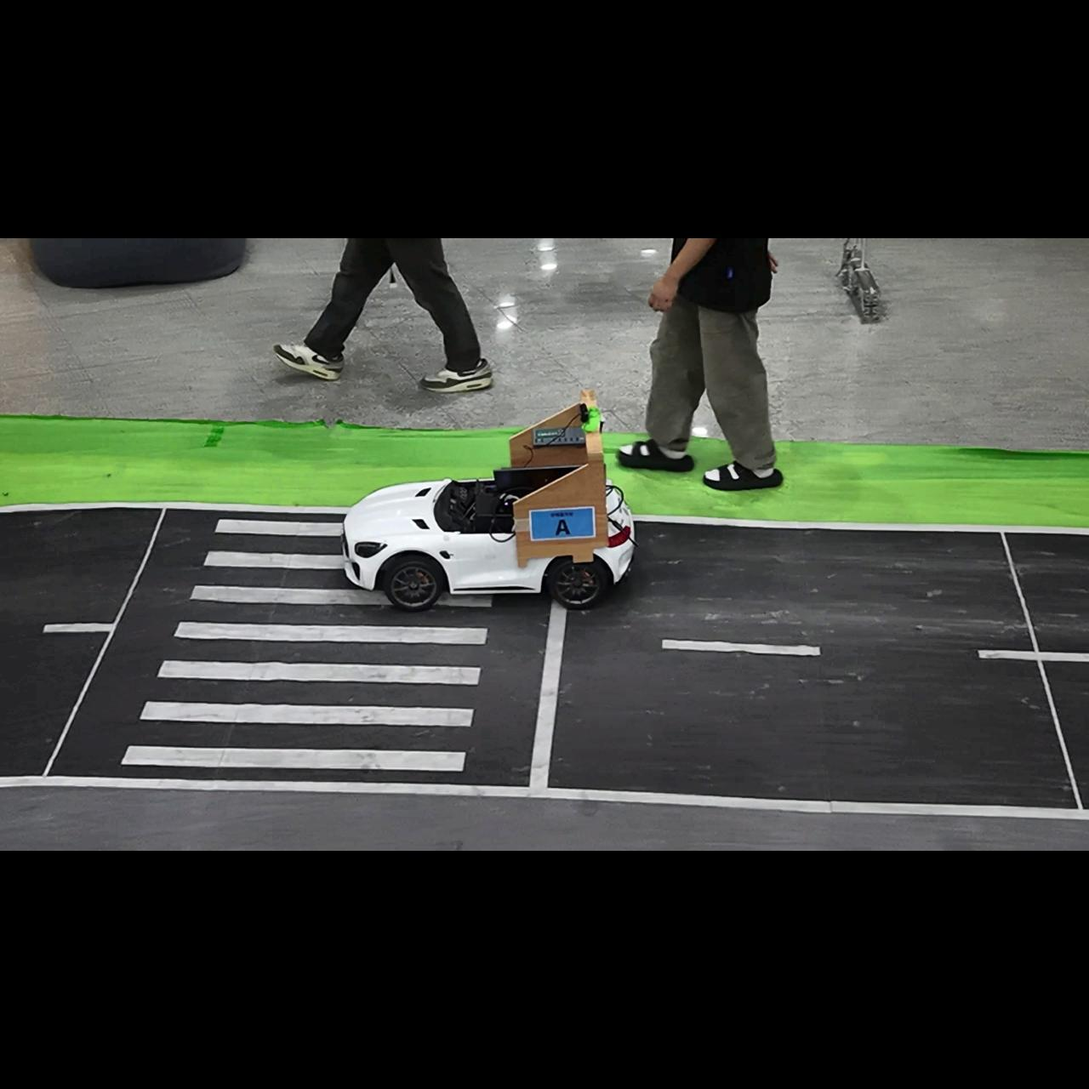broken_line: (661, 639, 821, 656), (977, 650, 1088, 662), (43, 623, 112, 633)
crosswalk: (121, 519, 493, 772)
